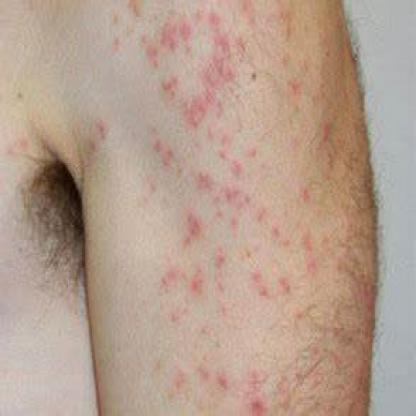Fire ant: (147, 125, 283, 240), (146, 0, 264, 124), (164, 354, 292, 414), (270, 0, 313, 101), (307, 322, 347, 414), (151, 262, 204, 320), (248, 258, 294, 304), (317, 113, 347, 176), (334, 21, 355, 103), (211, 242, 232, 322), (74, 208, 100, 257), (82, 107, 106, 159), (296, 219, 318, 274), (355, 274, 375, 318), (110, 24, 143, 50), (1, 128, 30, 156), (352, 346, 365, 406), (290, 171, 311, 204), (110, 0, 141, 19), (355, 180, 372, 214), (286, 129, 301, 154)
